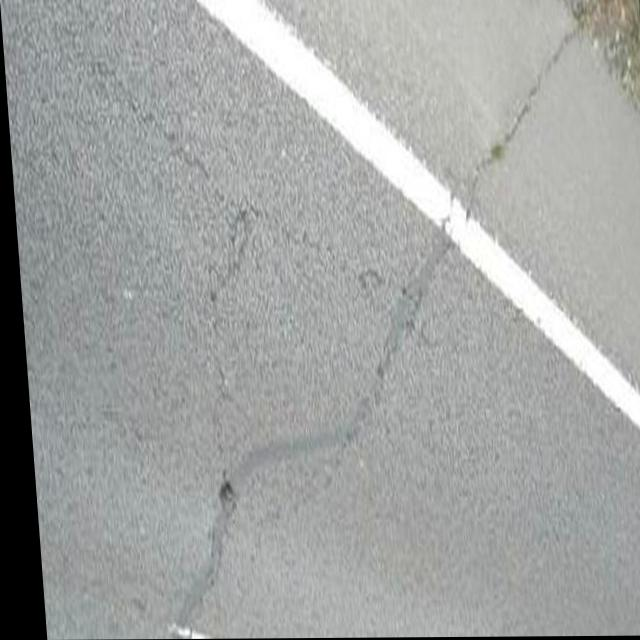Crack: (254, 26, 619, 449)
